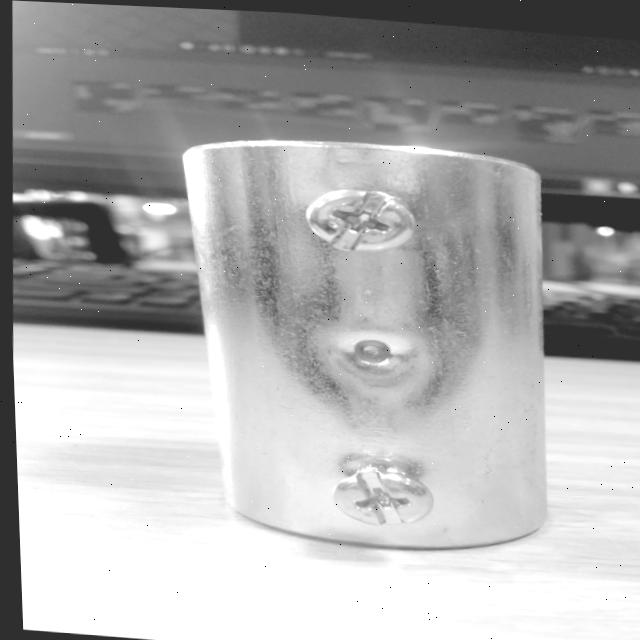Co_Nho: (182, 134, 546, 552)
